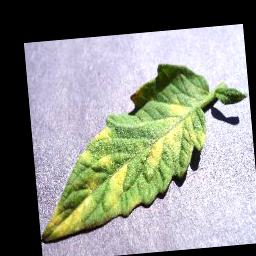Leaf_Mold: (26, 59, 220, 244)
